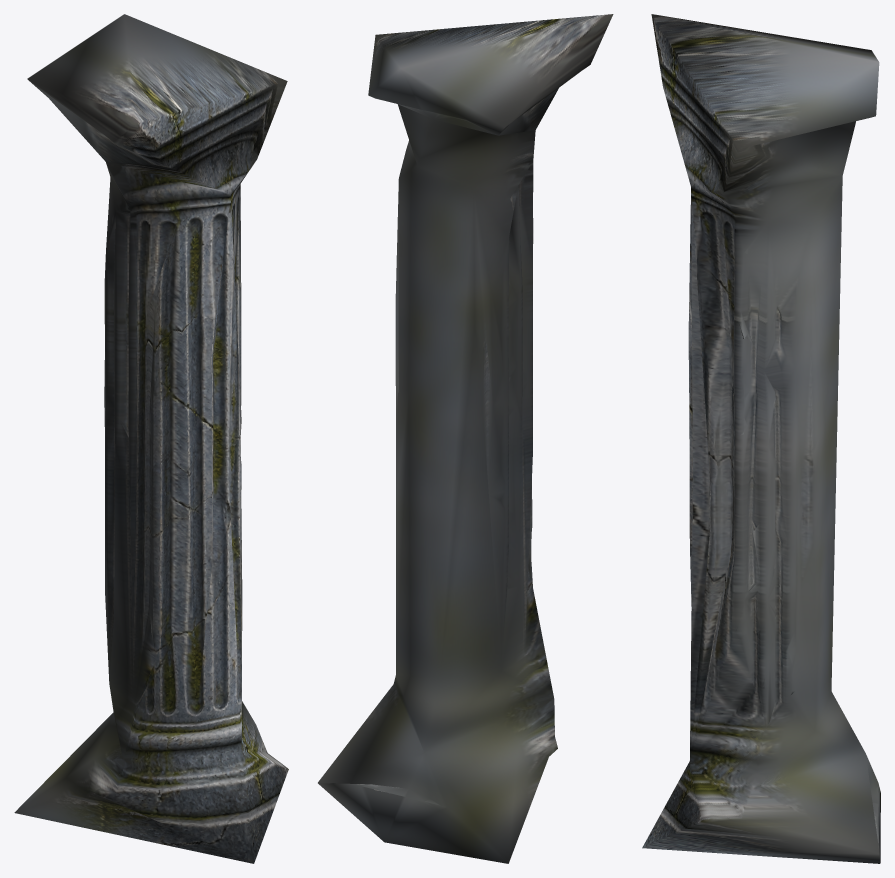
File: pillar.glb
3 views of the same model, side by side, from view 1: azimuth 30°, elevation 25°; view 2: azimuth 150°, elevation 25°; view 3: azimuth 270°, elevation 25° (orthographic). The views are drawn at different scales.
Parts seen in each view (by area): view 1: pillar; view 2: pillar; view 3: pillar.
Part boxes in pixels (x1=…): pillar: x1=14, y1=14, x2=288, y2=863; pillar: x1=318, y1=14, x2=613, y2=863; pillar: x1=642, y1=14, x2=880, y2=863.
Bounding box in the file's own units: 0.2905 × 1.06 × 0.2905.
1 material, 1 textured.
